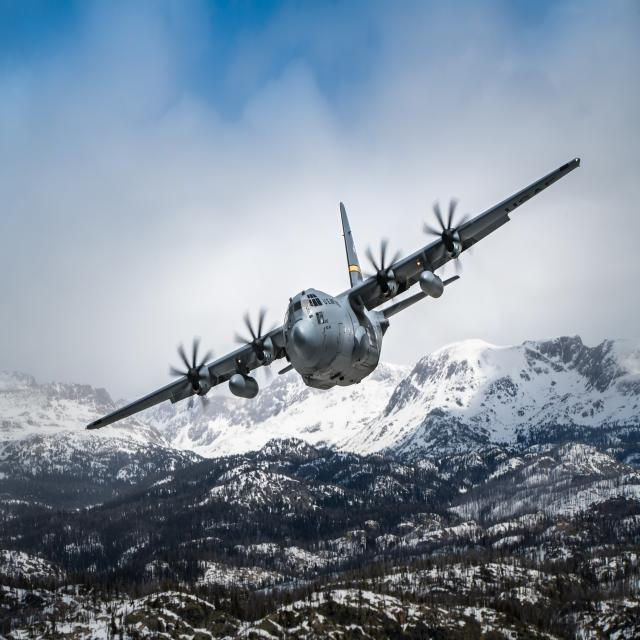C130: (65, 132, 587, 462)
